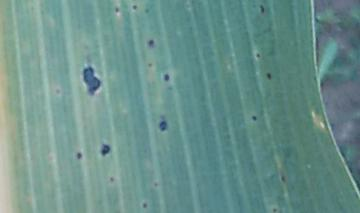tarspot: (82, 66, 101, 96), (98, 141, 110, 156), (158, 120, 169, 133), (143, 5, 151, 15), (258, 3, 265, 14), (54, 86, 62, 95), (107, 175, 116, 183), (147, 39, 155, 48), (76, 151, 83, 161), (163, 73, 170, 83), (266, 70, 272, 81), (130, 3, 138, 11), (280, 174, 286, 184), (251, 114, 258, 122), (114, 6, 120, 15), (147, 60, 153, 68), (152, 182, 160, 188), (255, 51, 261, 59), (143, 201, 148, 209), (272, 208, 277, 213)
